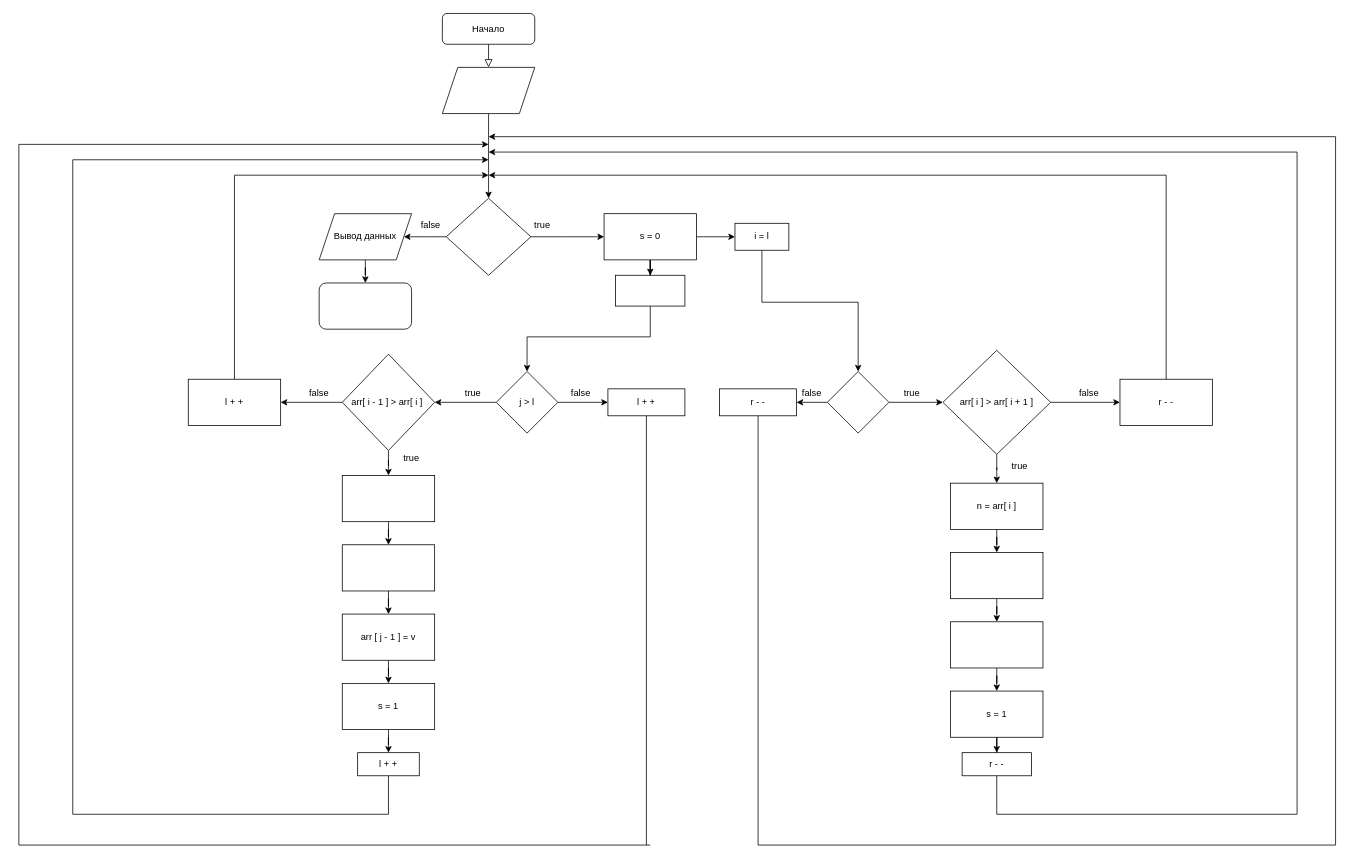
The diagram is 1355 pixels wide and 859 high, and some of its shapes have lost their labels. The shapes that lost their labels are listed below. From the top down, each one's box as (x1, y1, x2, y2) in pixels, then its label:
(442, 67, 535, 114): l, r, s
(445, 198, 531, 275): (l<r) && (s>0)
(318, 282, 412, 329): Конец
(615, 275, 685, 306): j = r
(827, 371, 889, 433): i < r
(341, 475, 435, 522): v = arr[ j ]
(341, 544, 435, 591): arr [ j ] = arr [ j - 1 ]
(950, 552, 1043, 599): arr [ i ] = arr [ i + 1 ]
(950, 621, 1043, 668): arr [ i + 1 ] = n
